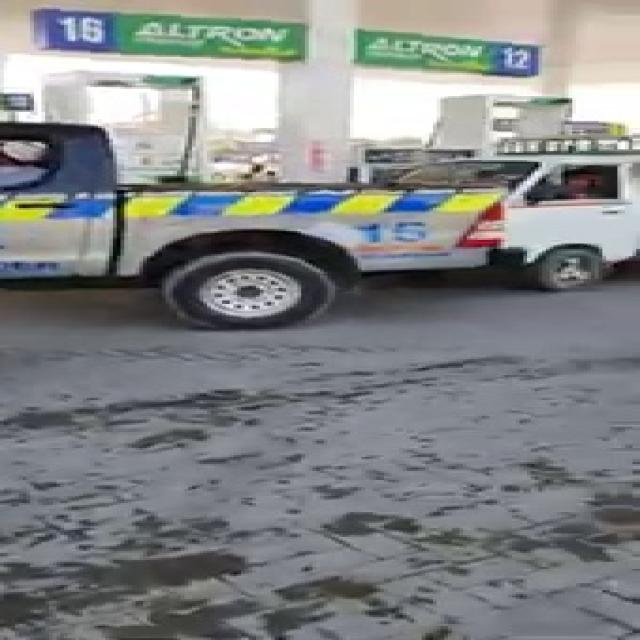police: (0, 123, 504, 297)
